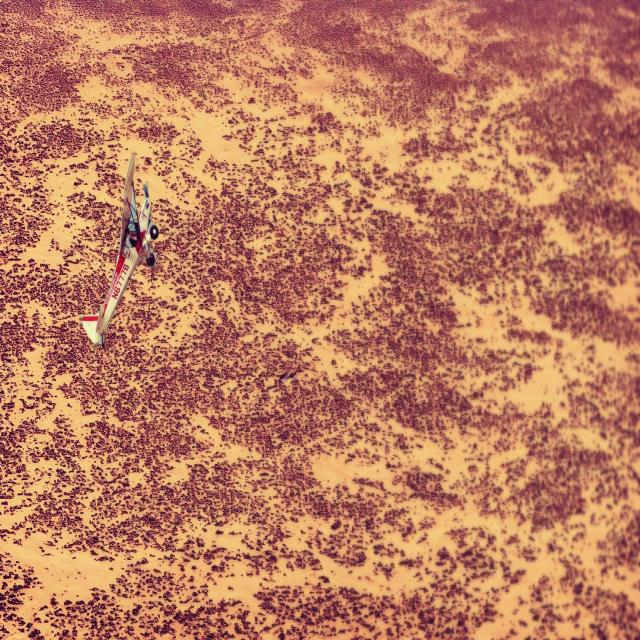airplane: (82, 150, 158, 348)
